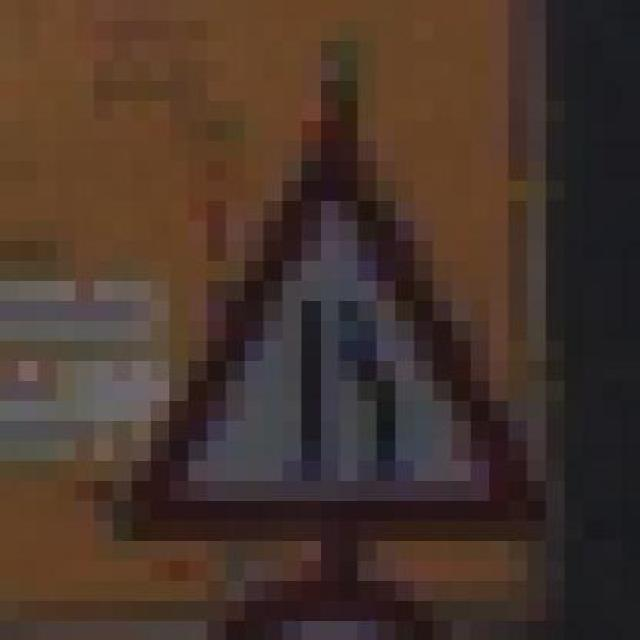-Road narrows on right: (94, 100, 583, 560)
